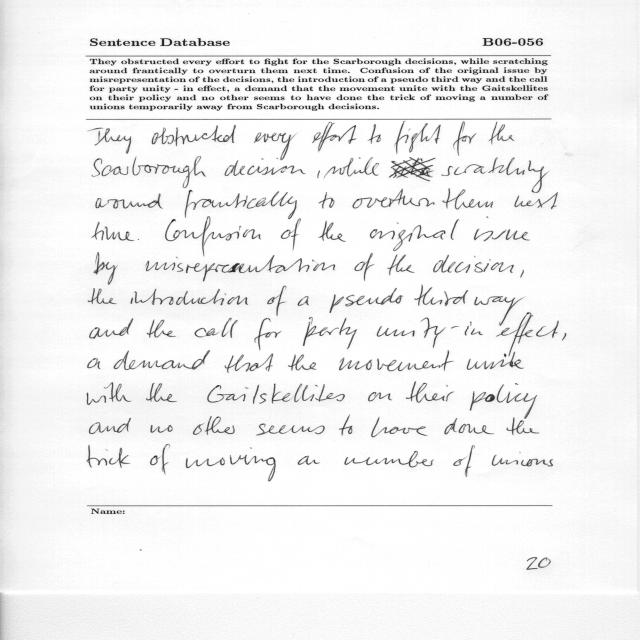word: (145, 255, 335, 281), (441, 157, 549, 193), (165, 217, 261, 257), (92, 156, 206, 188), (185, 190, 297, 219), (186, 448, 276, 482), (370, 219, 459, 251), (207, 384, 345, 404), (496, 313, 559, 356), (339, 351, 454, 372), (470, 383, 537, 419), (377, 318, 446, 348), (114, 350, 210, 370), (130, 289, 248, 305), (330, 288, 404, 313), (152, 125, 236, 146), (303, 317, 357, 349), (353, 189, 435, 208), (395, 121, 441, 154), (474, 296, 524, 326), (225, 158, 306, 176), (433, 255, 514, 273), (344, 451, 434, 467), (474, 217, 530, 242), (312, 122, 357, 152), (254, 133, 296, 161), (324, 157, 379, 178), (414, 285, 468, 306), (371, 417, 427, 437), (88, 128, 131, 154), (389, 157, 435, 181), (96, 193, 163, 209), (443, 189, 493, 210), (467, 352, 524, 370), (87, 382, 131, 405), (406, 382, 454, 403), (87, 445, 130, 468), (225, 353, 273, 373), (492, 452, 553, 467), (90, 318, 133, 339), (255, 318, 282, 350), (195, 318, 238, 338), (453, 121, 477, 156), (256, 424, 325, 436), (444, 418, 494, 434), (92, 222, 134, 241), (193, 416, 235, 435), (95, 252, 118, 285), (514, 193, 558, 210), (453, 445, 475, 477), (89, 418, 131, 434), (281, 218, 301, 250), (150, 444, 170, 475), (267, 286, 287, 316), (507, 417, 540, 435), (146, 383, 177, 402), (318, 221, 346, 242), (387, 255, 415, 276), (147, 319, 176, 338), (490, 122, 515, 144), (355, 253, 374, 281), (288, 354, 316, 371), (88, 288, 117, 304), (319, 192, 335, 209), (368, 124, 381, 144), (339, 415, 352, 435), (465, 322, 483, 335), (368, 392, 392, 401), (298, 456, 320, 465), (151, 425, 173, 433), (88, 358, 101, 369), (298, 296, 309, 306), (520, 270, 524, 278), (562, 333, 566, 341), (317, 171, 320, 179), (451, 326, 459, 329), (138, 239, 139, 240)
